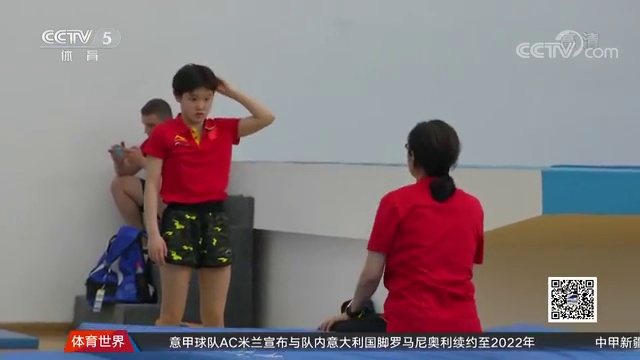face: (182, 86, 211, 119)
